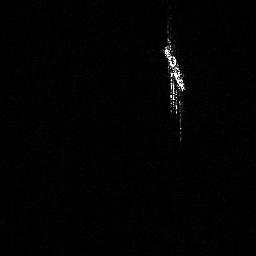ship: (158, 32, 190, 143)
